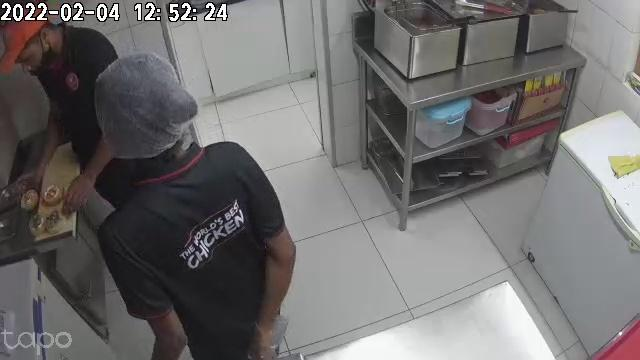no_gloves: (62, 164, 94, 212)
